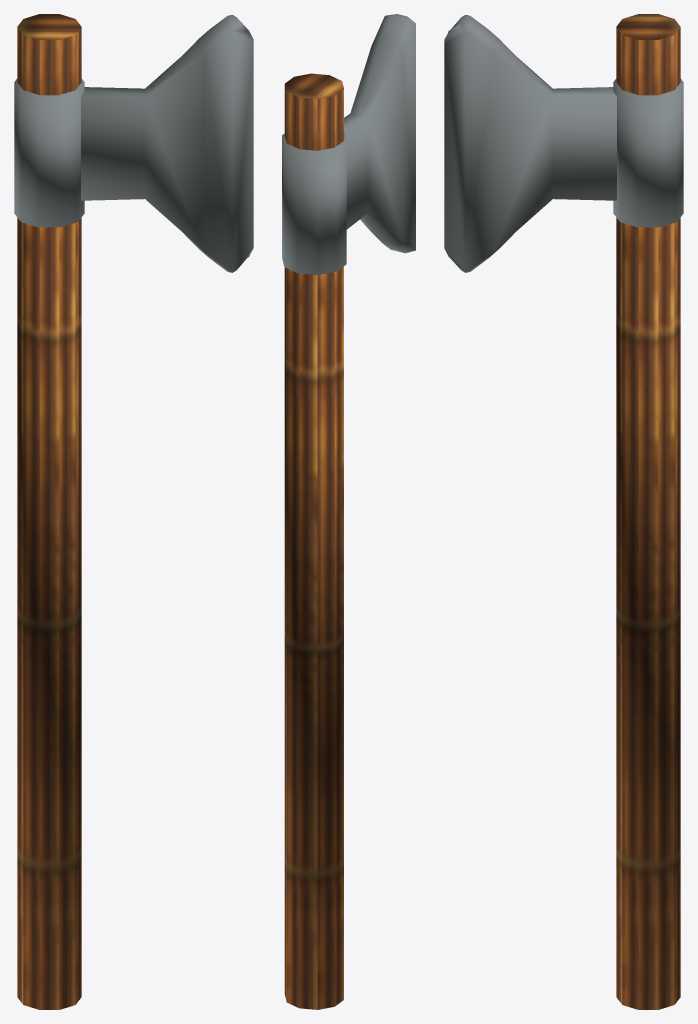
File: inca_axe_2.dae
3 views of the same model, side by side, from view 1: azimuth 90°, elevation 25°; view 2: azimuth 150°, elevation 25°; view 3: azimuth 270°, elevation 25° (orthographic). The views are drawn at different scales.
Parts seen in each view (by area): view 1: axe2; view 2: axe2; view 3: axe2.
Part boxes in pixels (x1=…): axe2: x1=14, y1=14, x2=253, y2=1009; axe2: x1=282, y1=14, x2=415, y2=1009; axe2: x1=444, y1=14, x2=683, y2=1009.
Bounding box in the file's own units: 0.1161 × 0.4155 × 1.87.
